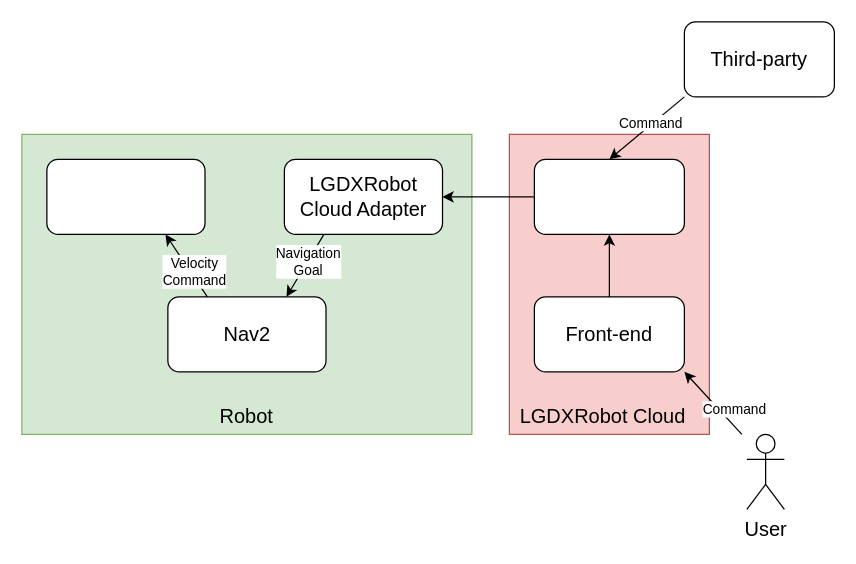
Some shapes in this 856 by 564 pixel diagram are drawn without their labels. Here are the shapes that lost their labels. From the top down, the centre of each, then its label:
(x=125, y=196): Robot ROS Node
(x=608, y=196): API
